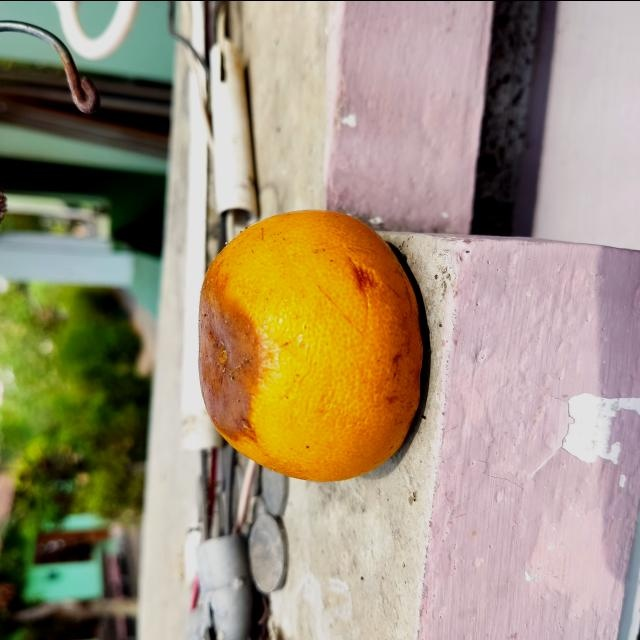agrume: (194, 207, 425, 485)
